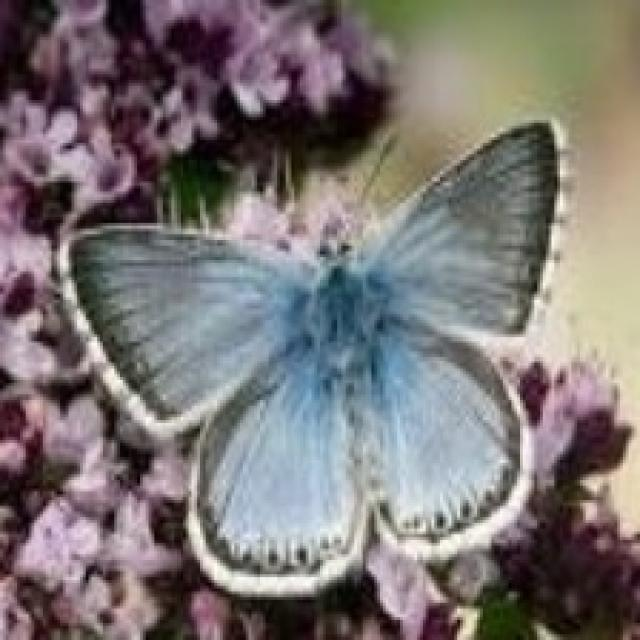butterfly: (54, 114, 572, 597)
